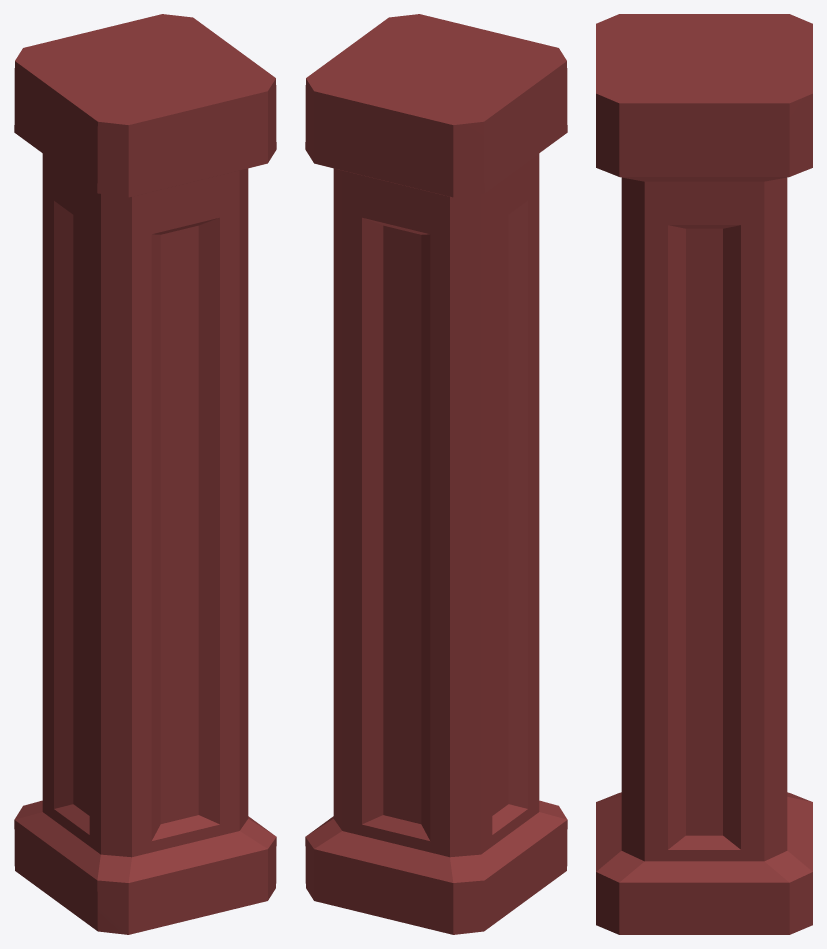
The model's file is O_V_Pilliar_CornerMedium.fbx.
3 views of the same model, side by side, from view 1: azimuth 30°, elevation 25°; view 2: azimuth 150°, elevation 25°; view 3: azimuth 270°, elevation 25° (orthographic). The views are drawn at different scales.
Visible parts, largest first — view 1: O_V_Pilliar_CornerMedium; view 2: O_V_Pilliar_CornerMedium; view 3: O_V_Pilliar_CornerMedium.
Boxes of the visible parts, x1,y1,x2,y2 form: O_V_Pilliar_CornerMedium: (14,14,276,934); O_V_Pilliar_CornerMedium: (305,14,567,934); O_V_Pilliar_CornerMedium: (596,14,812,934).
Size of the model in its own units: 1.51 by 6.5 by 1.54.
